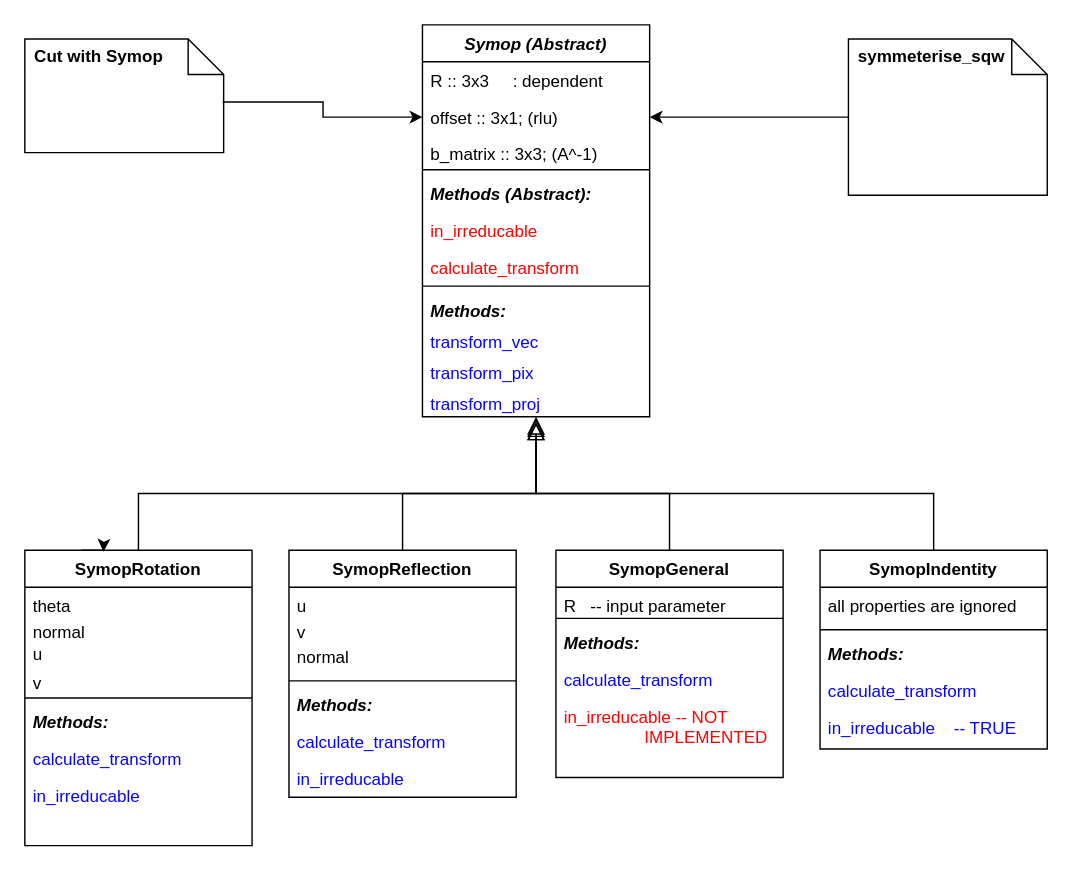
The diagram is 1072 pixels wide and 870 high, and some of its shapes have lost their labels. The centre of each missing label's shape, as x and y in pixels:
Use: in_irreducable transform_pix transform_vec: the point at 947,116
Use: transform_proj transform_vec: the point at 123,95
